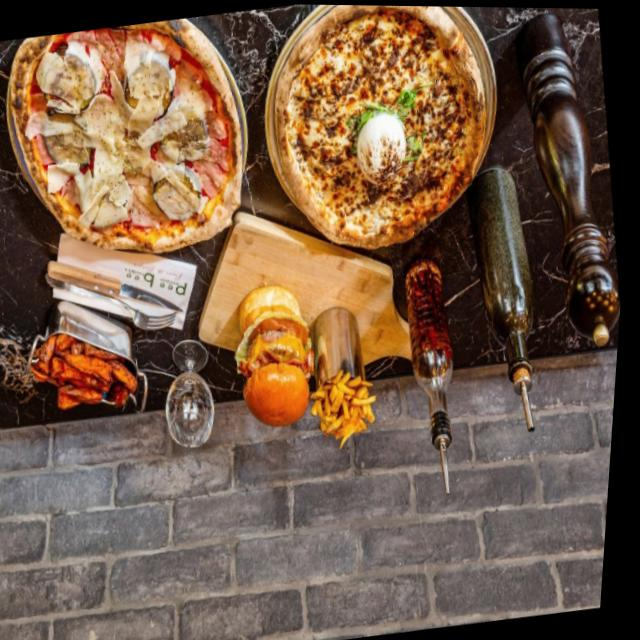burger: (229, 278, 332, 436)
pizza: (0, 9, 266, 276), (253, 3, 510, 262)
